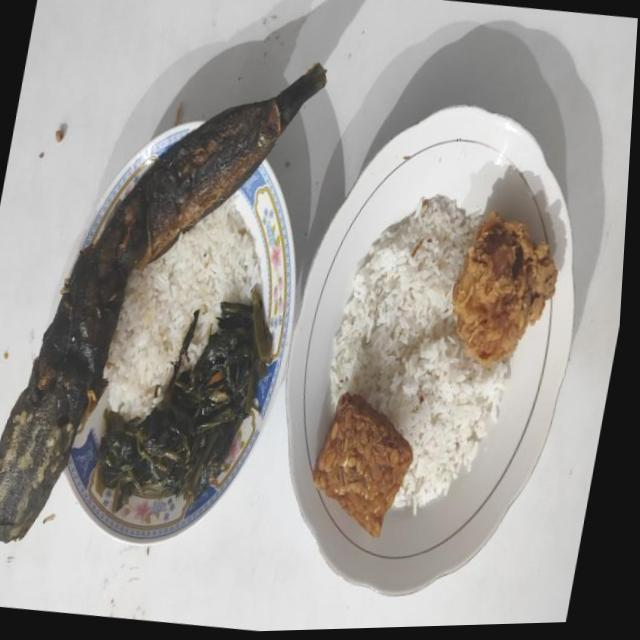nasi_putih: (330, 195, 508, 512), (104, 195, 260, 418)
tempe_goreng: (312, 392, 412, 536)
tumis_kangkung: (98, 290, 272, 507)
